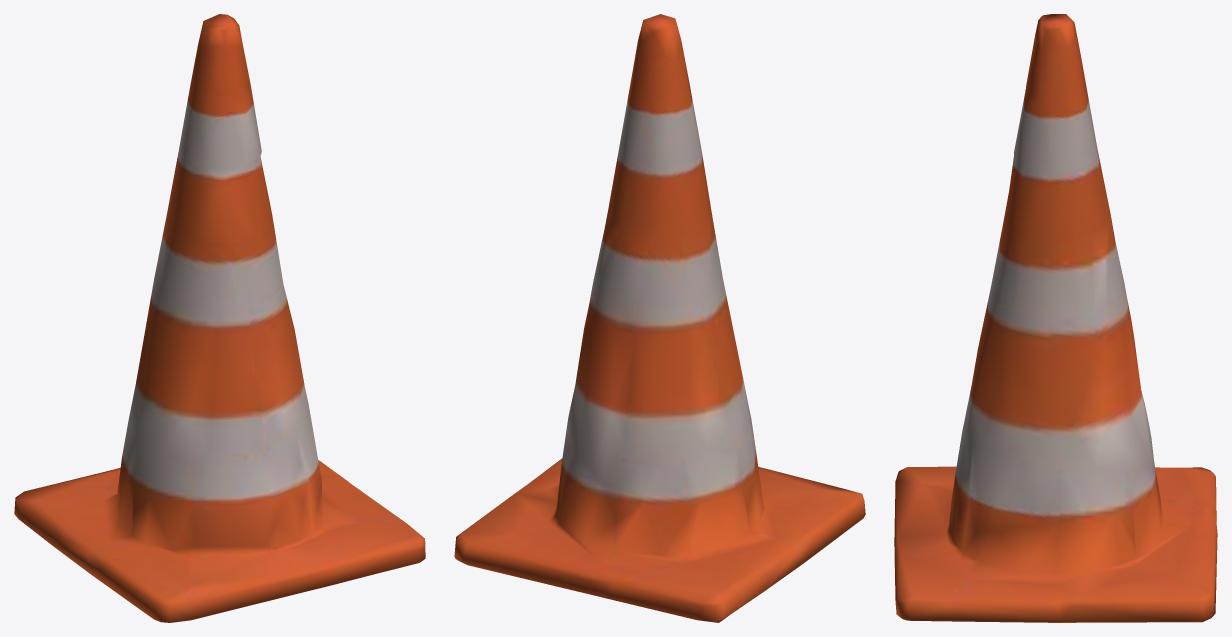
File: traffic-cone.glb
The picture shows the model from 3 angles, left to right: view 1: azimuth 30°, elevation 25°; view 2: azimuth 150°, elevation 25°; view 3: azimuth 270°, elevation 25°; orthographic projection. The views are drawn at different scales.
Visible parts, largest first — view 1: tripo_node_df274800-cc70-4383-8d65-8576578e66c9; view 2: tripo_node_df274800-cc70-4383-8d65-8576578e66c9; view 3: tripo_node_df274800-cc70-4383-8d65-8576578e66c9.
Boxes of the visible parts, left/top/right/bottom form: tripo_node_df274800-cc70-4383-8d65-8576578e66c9: left=14, top=14, right=425, bottom=622; tripo_node_df274800-cc70-4383-8d65-8576578e66c9: left=454, top=14, right=865, bottom=622; tripo_node_df274800-cc70-4383-8d65-8576578e66c9: left=894, top=14, right=1217, bottom=622.
Size of the model in its own units: 0.5476 by 0.9978 by 0.541.
1 material, 1 textured.
